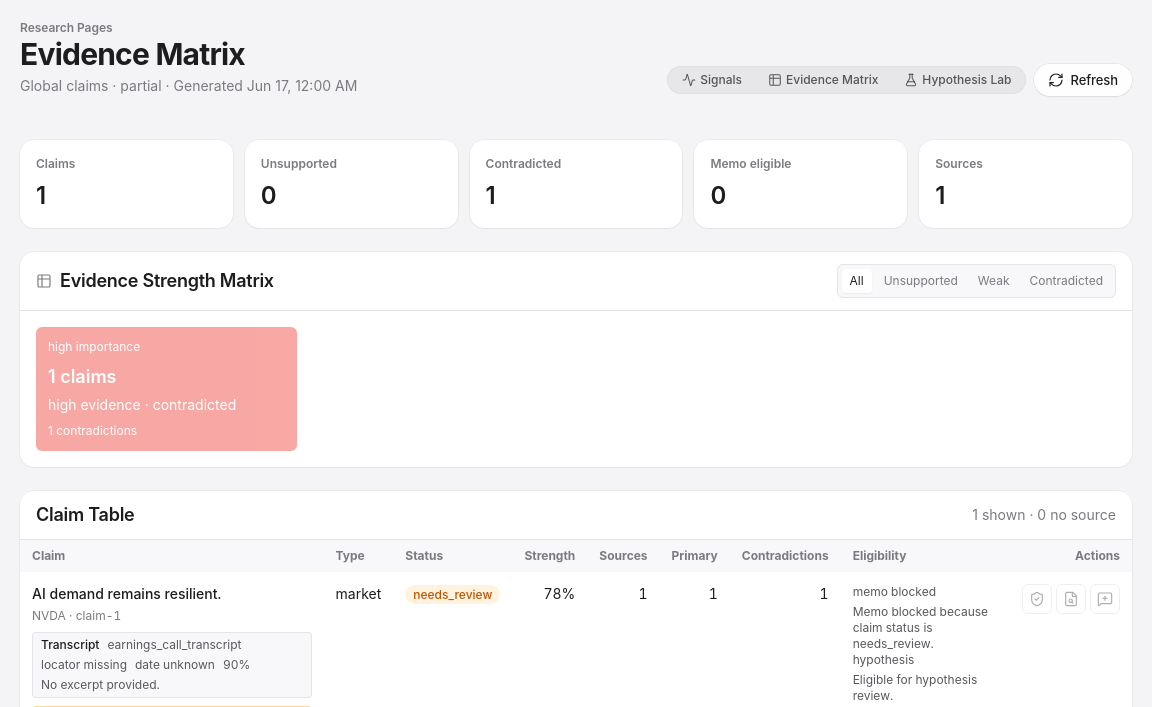
Test: research page views › renders Evidence Matrix visuals, filters, provenance, and contradictions
Click the button "contradicted": coordinates (1066, 281) [1022,269,1111,293]
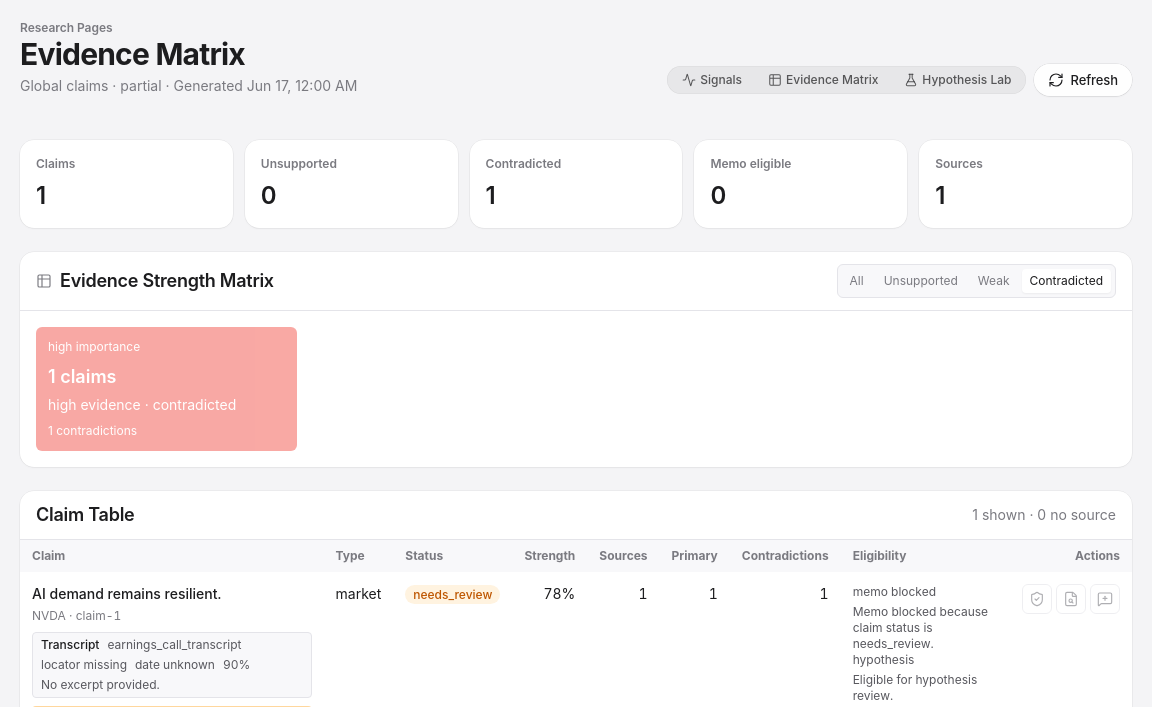
Expected: the text "1 shown" is shown, [972,506,1116,523]
Expected: the button titled "Memo blocked because claim status is needs_review." is disabled, [1022,584,1052,614]
Click the button "Refresh": coordinates (1083, 80) [1034,64,1132,96]
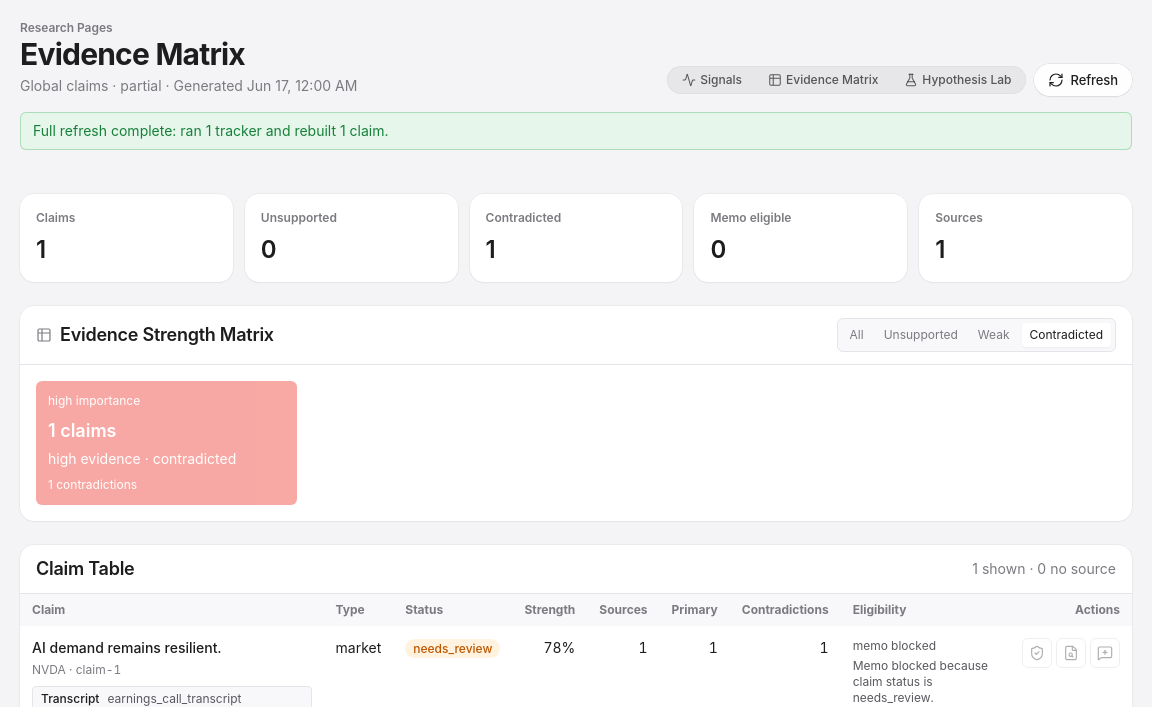
Result: the text "Full refresh complete: ran 1 tracker and rebuilt 1 claim." is shown at [20,112,1132,150]
